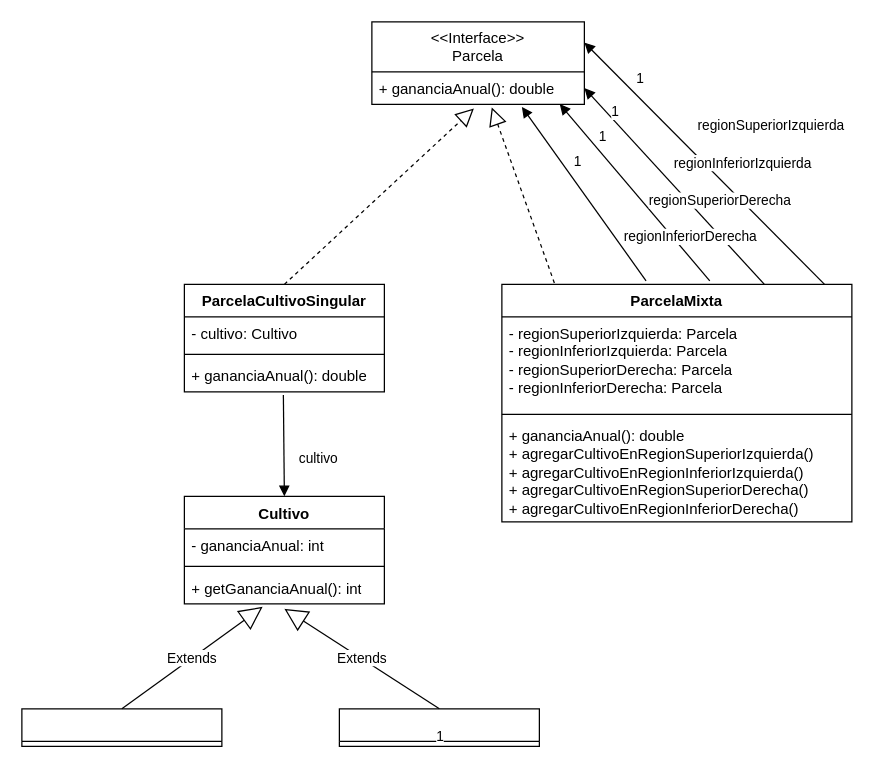
This 874x769 diagram has some shape labels left out. Here are the shapes that lost their labels. From the top down, the box of each, then its label:
(21, 708, 222, 746): Soja
(338, 708, 539, 746): Trigo
